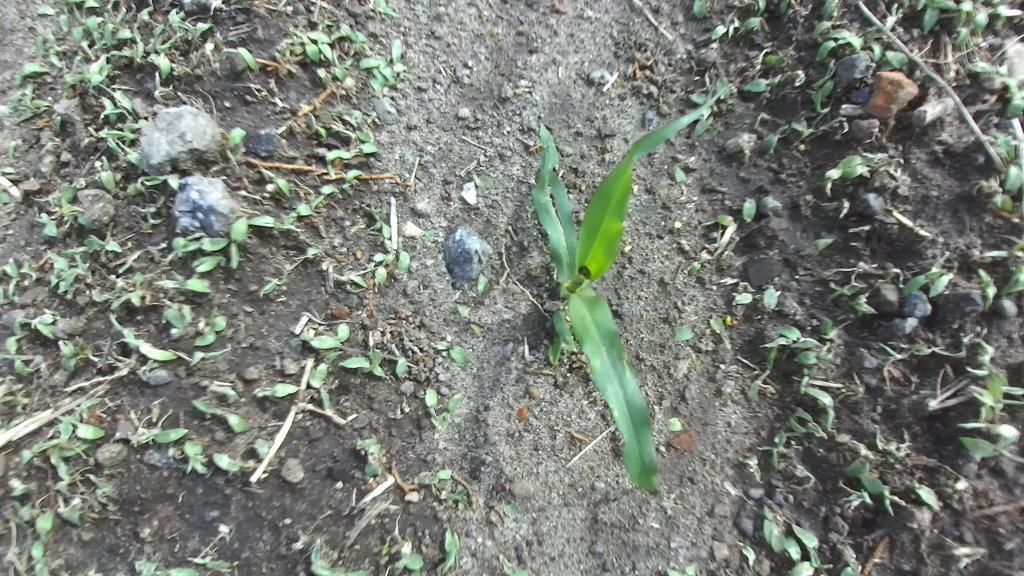BroWeed: (964, 358, 1015, 425), (337, 341, 395, 398), (189, 389, 254, 439), (42, 426, 97, 484), (301, 536, 375, 576), (51, 467, 110, 514), (853, 466, 907, 517), (785, 511, 830, 568), (118, 329, 178, 370), (91, 93, 141, 141), (743, 345, 782, 406), (804, 378, 845, 434), (698, 210, 744, 256), (429, 328, 478, 371), (318, 135, 364, 179), (11, 313, 70, 347), (29, 418, 79, 458), (99, 76, 144, 120), (133, 352, 177, 397), (220, 36, 268, 77), (955, 413, 1022, 442), (189, 311, 233, 355), (430, 521, 465, 576), (0, 329, 36, 380), (773, 318, 824, 354), (104, 133, 151, 172), (219, 213, 251, 270), (889, 336, 968, 359), (53, 413, 108, 446), (907, 471, 948, 515), (248, 162, 298, 198), (284, 22, 325, 65), (302, 110, 343, 153), (838, 151, 890, 184), (805, 7, 850, 45), (364, 72, 402, 117), (7, 246, 48, 287), (178, 13, 221, 52), (304, 362, 335, 416), (271, 46, 311, 87), (327, 261, 370, 299), (429, 389, 467, 432), (153, 268, 215, 294), (806, 76, 846, 116), (741, 68, 794, 98), (128, 192, 169, 229), (687, 69, 724, 109), (176, 232, 232, 258), (368, 247, 397, 297), (378, 64, 415, 103), (898, 268, 946, 298), (166, 222, 208, 256), (249, 211, 306, 236), (704, 310, 737, 353), (723, 125, 760, 163), (163, 5, 199, 44), (361, 200, 395, 241), (875, 341, 933, 365), (814, 156, 847, 198), (185, 547, 234, 575), (9, 74, 47, 110), (730, 537, 765, 576), (810, 30, 849, 65), (10, 55, 54, 86), (195, 377, 242, 406), (49, 261, 89, 295), (305, 178, 345, 212), (326, 97, 367, 130), (837, 478, 879, 510), (826, 22, 868, 54), (254, 377, 301, 405), (208, 449, 256, 476), (105, 307, 140, 344), (816, 187, 853, 222), (0, 254, 28, 300), (184, 339, 230, 367), (1, 495, 47, 523), (757, 117, 789, 157), (69, 389, 104, 425), (798, 230, 836, 263), (319, 49, 352, 87), (135, 166, 185, 191), (791, 340, 837, 367), (9, 99, 49, 130), (964, 56, 1013, 81), (92, 154, 120, 197), (96, 103, 136, 133), (380, 550, 426, 576), (30, 209, 65, 243), (984, 182, 1019, 216), (792, 114, 827, 148), (681, 247, 717, 280), (390, 534, 418, 576), (222, 124, 248, 169), (840, 146, 888, 170), (128, 427, 188, 446), (81, 471, 123, 498), (30, 505, 59, 544), (190, 301, 223, 335), (757, 439, 789, 474), (307, 57, 339, 92), (809, 57, 840, 93), (191, 248, 229, 277), (710, 5, 737, 45), (313, 344, 343, 380), (70, 23, 96, 64), (69, 251, 97, 289), (960, 281, 991, 315), (280, 198, 319, 225), (768, 427, 798, 462), (969, 333, 999, 368), (183, 437, 209, 477), (977, 266, 999, 313), (938, 546, 987, 567), (67, 4, 105, 31), (166, 60, 207, 85), (387, 340, 412, 381), (843, 451, 876, 482), (878, 0, 909, 33), (305, 2, 336, 35), (846, 435, 880, 465), (818, 113, 853, 142), (43, 182, 80, 209), (862, 27, 889, 64), (733, 13, 770, 40), (63, 279, 95, 310), (843, 266, 874, 298), (881, 46, 916, 74), (334, 19, 369, 47), (836, 540, 863, 576), (157, 298, 197, 322), (848, 290, 878, 322), (112, 247, 146, 275), (41, 249, 77, 275), (15, 439, 48, 467), (354, 431, 382, 464), (719, 377, 752, 405), (329, 117, 362, 145), (106, 289, 146, 312), (710, 61, 733, 101), (780, 532, 807, 566), (968, 172, 1002, 199), (271, 40, 306, 66), (385, 37, 408, 76), (157, 24, 185, 56), (54, 198, 86, 226), (492, 552, 529, 576), (934, 475, 971, 499), (916, 3, 942, 37), (738, 452, 763, 487), (299, 332, 345, 351), (360, 247, 389, 277), (7, 470, 39, 497), (390, 510, 408, 557), (29, 17, 58, 46), (749, 109, 778, 138), (43, 47, 71, 77), (42, 262, 72, 290), (339, 74, 366, 105), (399, 54, 430, 81), (322, 321, 353, 348), (354, 50, 392, 72), (392, 235, 413, 274), (145, 238, 174, 266), (836, 487, 865, 515), (56, 497, 83, 527), (688, 113, 719, 139), (339, 164, 365, 195), (77, 54, 112, 77), (788, 462, 816, 490), (813, 315, 842, 342), (757, 283, 784, 312), (130, 21, 149, 62), (87, 283, 118, 308), (438, 482, 469, 507), (101, 76, 137, 97), (495, 492, 522, 520), (847, 232, 875, 259), (854, 258, 888, 280), (109, 40, 141, 63), (250, 433, 277, 460), (756, 195, 785, 220), (416, 468, 454, 487), (87, 233, 123, 253), (308, 27, 348, 45), (704, 223, 728, 253), (760, 336, 815, 349), (144, 19, 165, 53), (89, 22, 111, 54), (150, 69, 169, 106), (0, 406, 28, 431), (1000, 73, 1024, 102), (315, 36, 339, 65), (665, 210, 694, 234), (720, 231, 742, 262), (33, 307, 67, 327), (57, 339, 77, 373), (729, 288, 763, 308), (660, 81, 686, 107), (164, 43, 189, 70), (663, 560, 705, 576), (255, 275, 283, 299), (668, 322, 697, 345), (790, 561, 834, 576), (371, 199, 391, 232), (762, 504, 778, 545), (954, 8, 970, 49), (74, 335, 95, 366), (349, 138, 380, 159), (64, 48, 89, 74), (0, 371, 26, 396), (234, 425, 261, 449), (43, 39, 77, 58), (404, 71, 432, 94), (119, 319, 151, 339), (710, 537, 732, 566), (803, 420, 832, 442), (969, 310, 992, 337), (885, 440, 913, 462), (102, 12, 120, 46), (0, 392, 32, 411), (99, 127, 139, 142), (756, 299, 786, 319), (368, 64, 392, 89), (783, 414, 809, 437), (826, 277, 852, 300), (768, 525, 787, 556), (425, 383, 440, 422), (62, 237, 96, 254), (89, 124, 125, 140), (779, 420, 803, 444), (184, 42, 207, 67), (898, 312, 921, 337), (726, 249, 751, 272), (929, 249, 951, 275), (327, 77, 349, 103), (470, 272, 491, 299), (629, 49, 656, 70), (124, 181, 152, 201), (791, 404, 819, 424), (30, 553, 54, 576), (878, 260, 900, 285), (587, 66, 612, 88), (111, 271, 132, 297), (827, 529, 855, 548), (751, 553, 774, 576), (663, 413, 687, 435), (372, 232, 396, 254), (815, 0, 840, 21), (97, 60, 123, 80), (723, 15, 742, 42), (703, 117, 722, 144), (470, 172, 497, 191), (54, 11, 76, 34), (384, 403, 407, 425), (56, 434, 84, 452), (676, 150, 701, 170), (463, 319, 488, 339), (63, 73, 101, 86), (77, 446, 98, 469), (73, 210, 97, 230), (950, 313, 978, 330), (847, 223, 873, 241), (460, 180, 478, 206), (717, 96, 740, 116), (725, 72, 744, 96), (0, 444, 13, 479), (916, 0, 957, 11), (64, 456, 89, 474), (762, 54, 792, 69), (378, 533, 392, 565), (346, 41, 372, 58), (140, 555, 161, 576), (735, 278, 756, 299), (155, 566, 199, 576), (300, 317, 320, 339), (978, 404, 993, 432), (454, 298, 474, 319), (886, 153, 907, 173), (399, 329, 414, 357), (112, 25, 137, 41), (73, 399, 93, 419), (719, 310, 739, 330), (405, 254, 425, 274), (871, 160, 892, 179), (404, 222, 426, 240), (882, 439, 912, 452), (997, 228, 1021, 244), (81, 256, 101, 275), (165, 308, 184, 328), (888, 162, 907, 182), (363, 461, 381, 482), (872, 423, 885, 452), (30, 540, 45, 565), (159, 48, 170, 82), (790, 110, 807, 132), (145, 50, 165, 68), (94, 248, 112, 268), (691, 0, 709, 20), (670, 163, 688, 183), (405, 339, 425, 357), (204, 36, 215, 68), (168, 325, 190, 341), (69, 176, 96, 189), (208, 47, 226, 66), (274, 63, 293, 81), (312, 141, 331, 159), (277, 34, 303, 47), (834, 430, 855, 446), (397, 394, 413, 415), (779, 5, 794, 27), (698, 40, 720, 55), (353, 127, 375, 142), (351, 178, 373, 193), (209, 59, 227, 77), (12, 462, 31, 479), (93, 488, 112, 505), (875, 451, 898, 465), (786, 438, 806, 454), (124, 116, 135, 145), (799, 366, 810, 395), (34, 35, 49, 56), (962, 322, 983, 337), (362, 110, 383, 125), (303, 244, 324, 259), (748, 0, 767, 16), (718, 274, 743, 286), (17, 274, 35, 290), (743, 197, 755, 221), (0, 184, 14, 204), (975, 252, 995, 266), (897, 176, 911, 196), (370, 528, 382, 551), (340, 55, 358, 70), (36, 4, 60, 15), (133, 558, 148, 575), (42, 265, 56, 283), (48, 556, 66, 570), (75, 249, 91, 264), (834, 472, 849, 488), (394, 69, 409, 85), (272, 285, 287, 301), (792, 69, 806, 86), (709, 101, 723, 118), (424, 227, 438, 244), (707, 228, 725, 241), (264, 181, 282, 194), (90, 43, 105, 58), (636, 64, 651, 79), (958, 332, 974, 346), (658, 102, 674, 116), (31, 98, 53, 108), (893, 202, 913, 213), (313, 323, 331, 335), (174, 9, 189, 23), (48, 424, 63, 438), (700, 105, 715, 119), (732, 305, 747, 319), (251, 385, 272, 395), (0, 284, 10, 304), (132, 272, 143, 290), (287, 44, 305, 55), (632, 288, 649, 299), (964, 247, 981, 257), (43, 445, 57, 457), (216, 8, 230, 20), (93, 157, 104, 172), (104, 504, 122, 513), (14, 404, 26, 417), (442, 331, 454, 344), (54, 115, 62, 132), (86, 568, 103, 576), (881, 62, 896, 71), (832, 129, 843, 141), (745, 462, 755, 474), (810, 364, 818, 378), (862, 170, 873, 180), (688, 351, 697, 363), (0, 486, 8, 499), (1008, 256, 1015, 270), (319, 50, 326, 63), (409, 401, 417, 412), (64, 0, 85, 4), (56, 570, 70, 576), (458, 501, 465, 510), (731, 291, 741, 297), (30, 0, 40, 4), (0, 377, 5, 382), (313, 327, 315, 328)
Maize: (483, 57, 727, 492)
